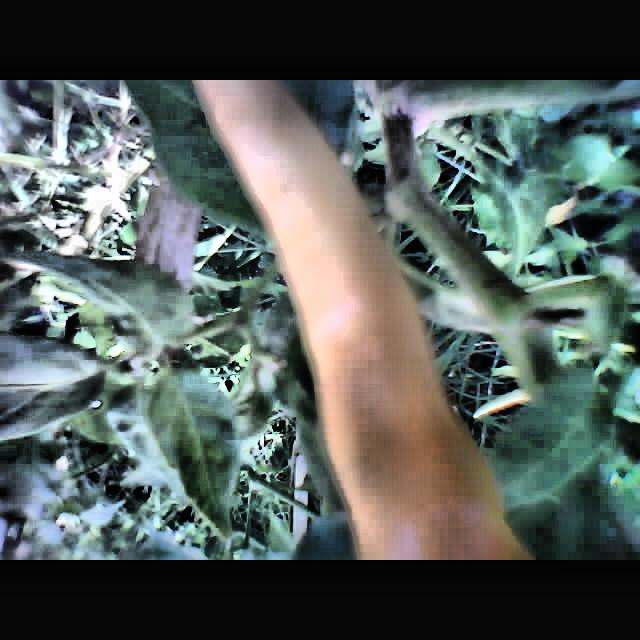Cabai: (216, 80, 530, 560)
